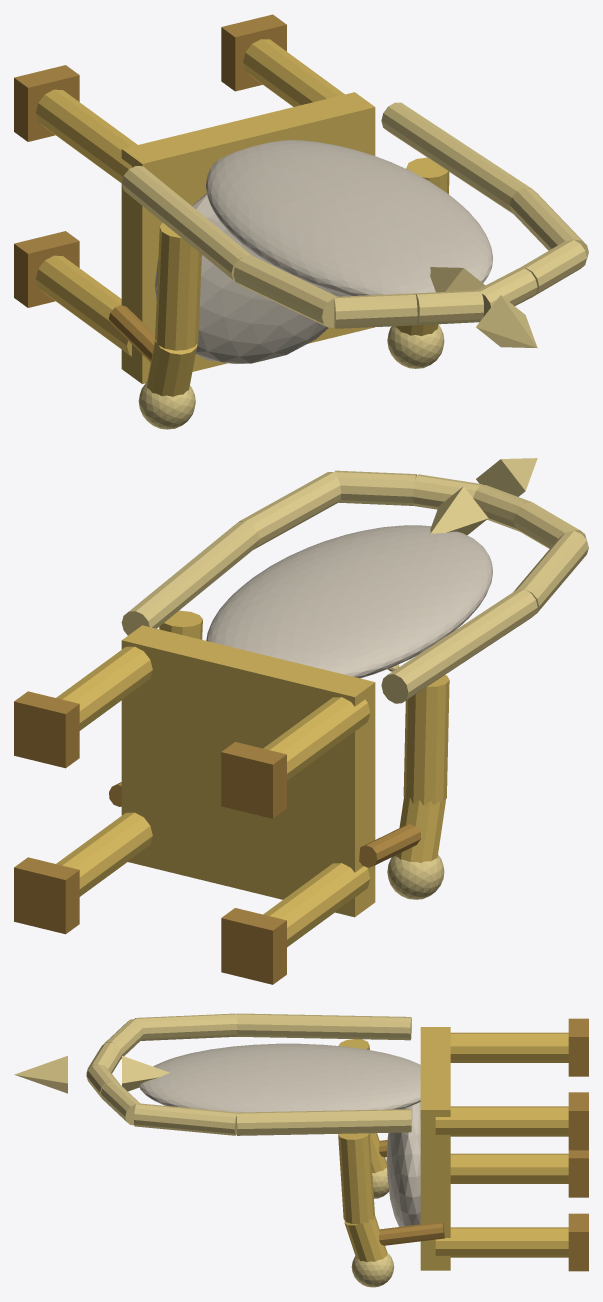
File: chair_royal_ivory.glb
3 renders of one model, top to bottom at view 1: azimuth 30°, elevation 25°; view 2: azimuth 150°, elevation 25°; view 3: azimuth 270°, elevation 25°, orthographic. The views are drawn at different scales.
Parts seen in each view (by area): view 1: world; view 2: world; view 3: world.
Boxes of the visible parts, bbox=[...] form: world: bbox=[14, 14, 588, 429]; world: bbox=[14, 458, 588, 984]; world: bbox=[14, 1013, 588, 1287].
Bounding box in the file's own units: 0.9459 × 0.752 × 2.11.
